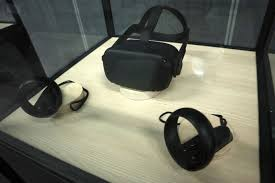oculus: (101, 35, 183, 96)
